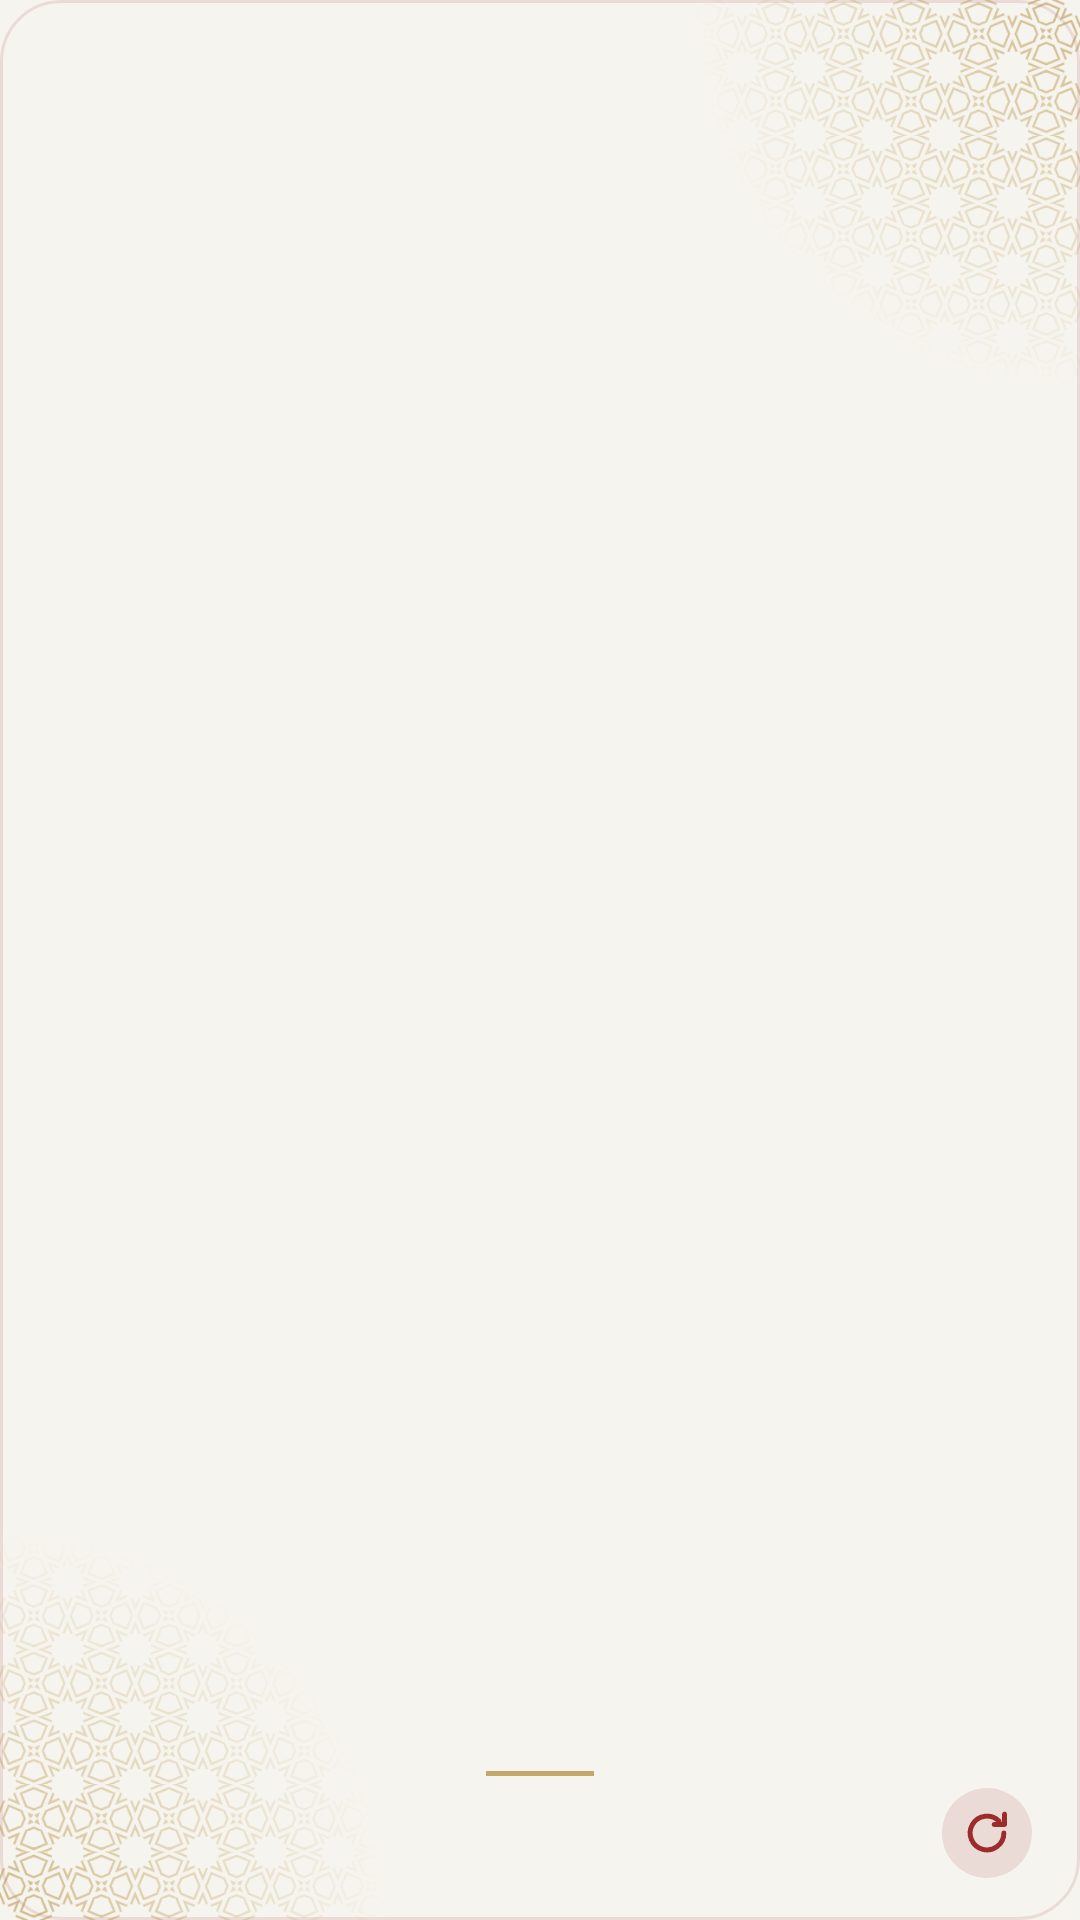

Named icons in this screenshot (1080x1920) and their centers, (x=x, y=y):
widget refresh: (x=987, y=1833)
